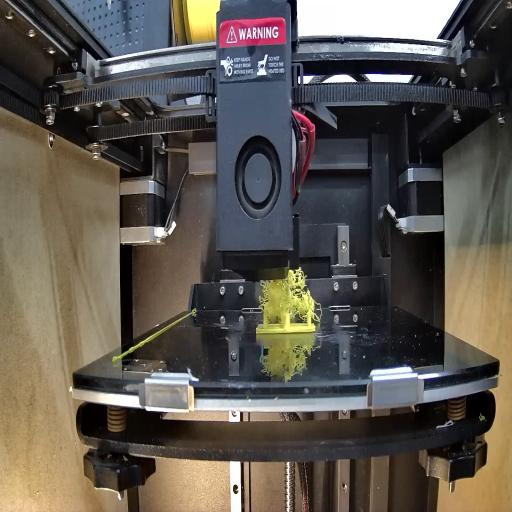spaghetti: (262, 269, 324, 322)
